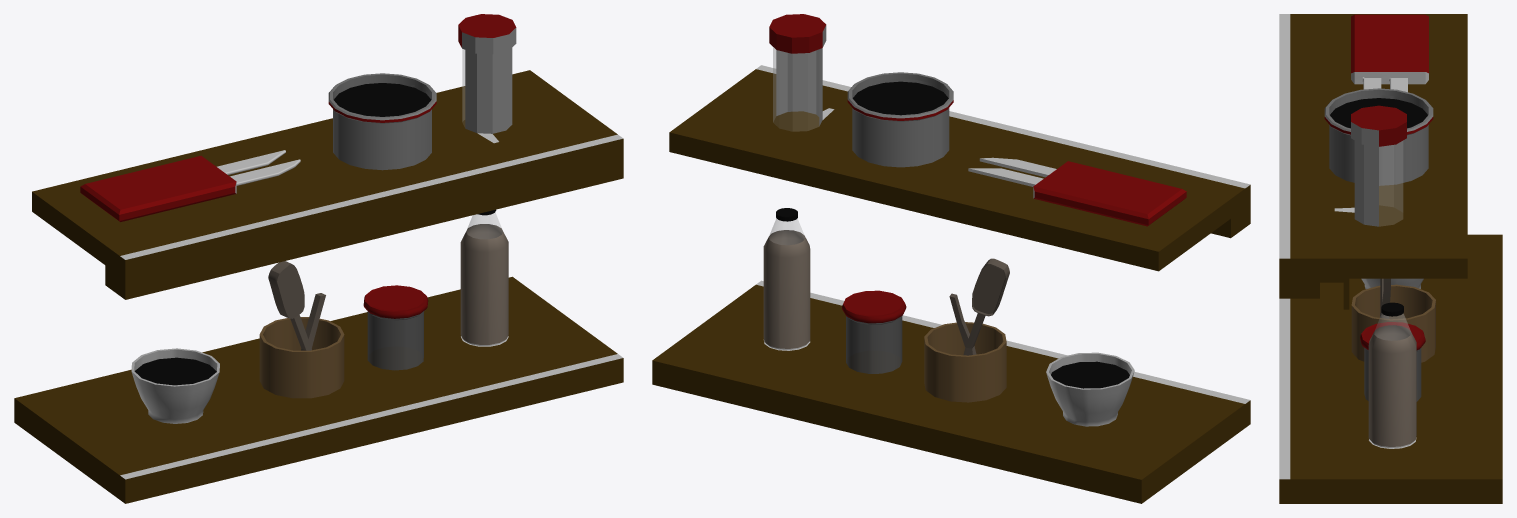
The model's file is estante.fbx.
3 renders of one model, left to right at view 1: azimuth 30°, elevation 25°; view 2: azimuth 150°, elevation 25°; view 3: azimuth 270°, elevation 25°, orthographic. The views are drawn at different scales.
Visible parts, largest first — view 1: estante; view 2: estante; view 3: estante.
Part boxes in pixels (left/top/right/bottom): estante: left=14, top=14, right=623, bottom=503; estante: left=652, top=14, right=1250, bottom=503; estante: left=1279, top=14, right=1502, bottom=503.
Bounding box in the file's own units: 3.92 × 2.57 × 1.51.
